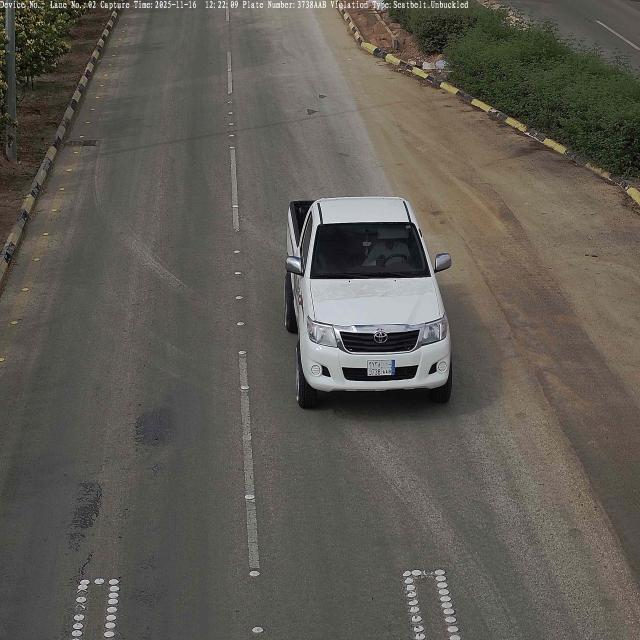person_without_seatbelt: (370, 229, 410, 271)
